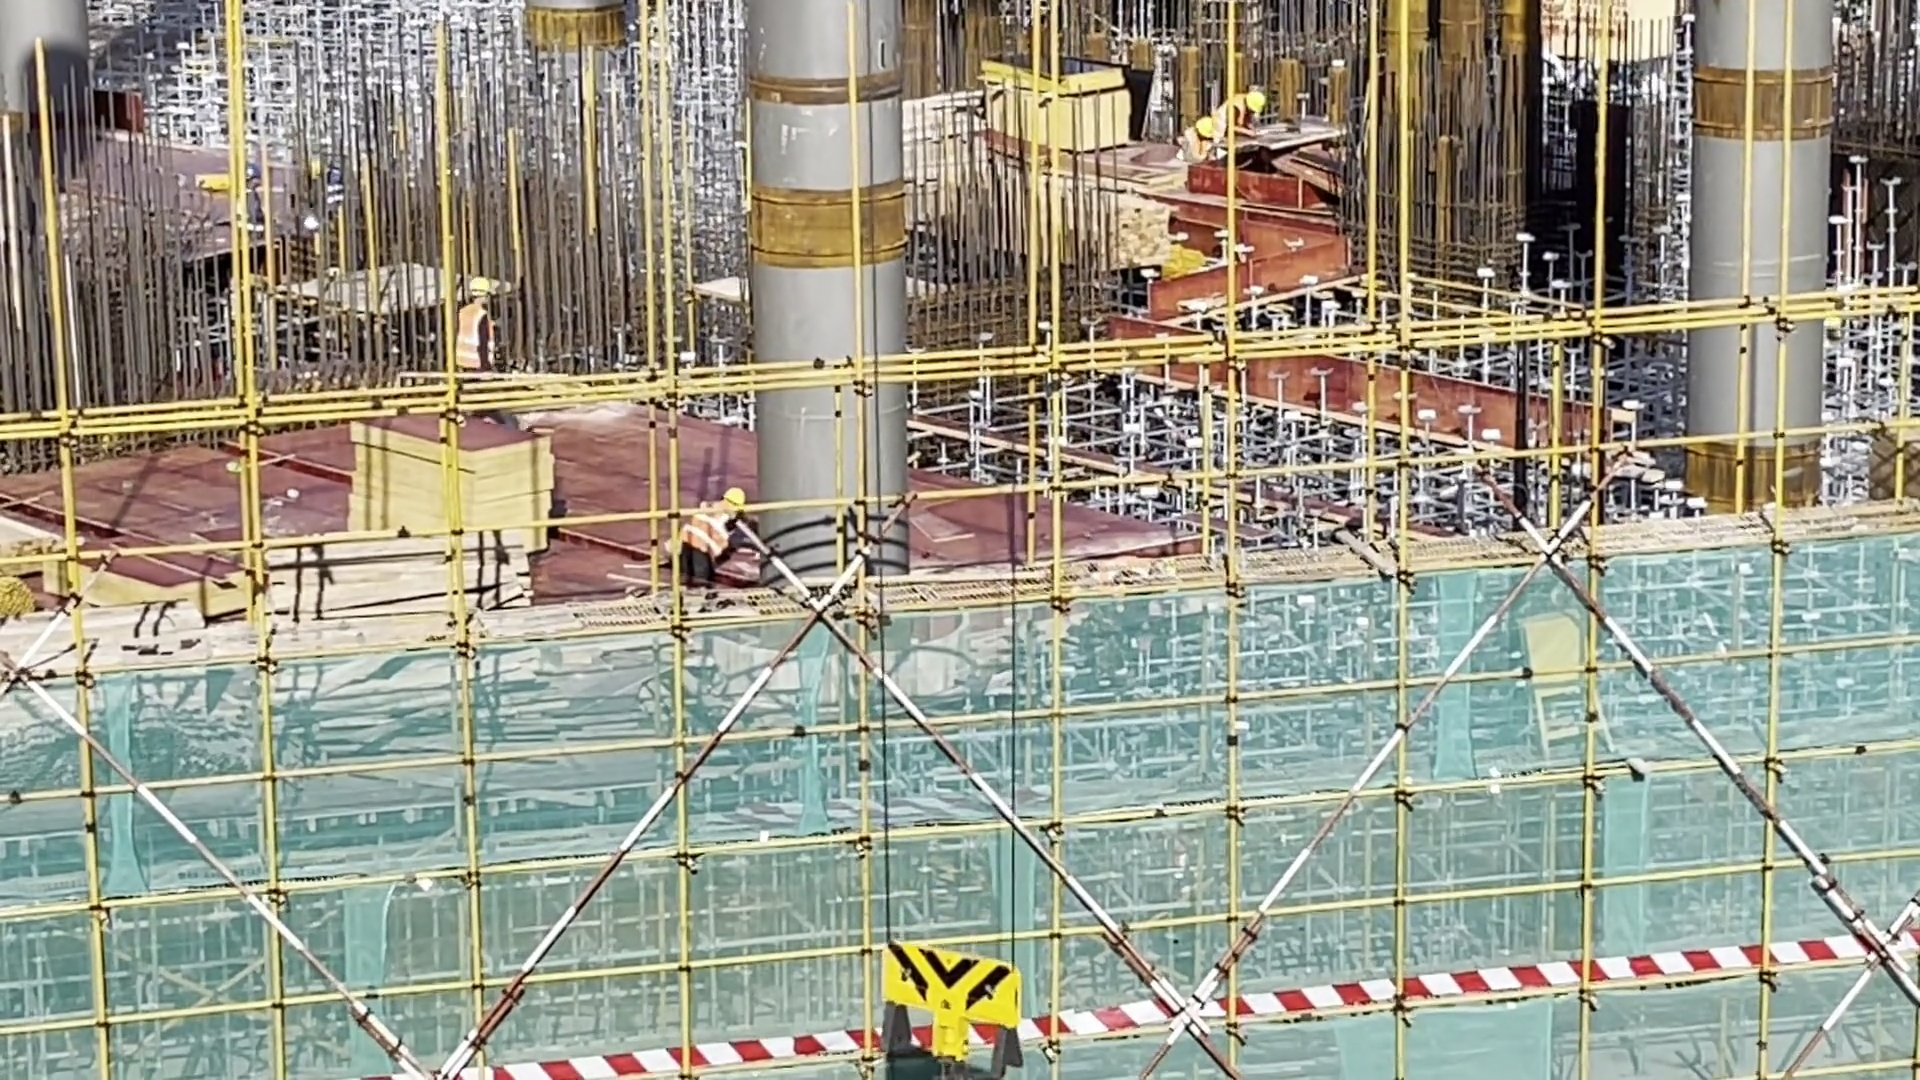board: (342, 407, 547, 562)
helmet: (1195, 117, 1217, 139), (724, 486, 745, 508), (1248, 90, 1265, 113)
hook: (878, 941, 1024, 1076)
person: (675, 481, 758, 587), (458, 281, 520, 379), (1169, 114, 1227, 169), (1215, 81, 1267, 122)
vest: (687, 496, 729, 561), (460, 306, 494, 365)
